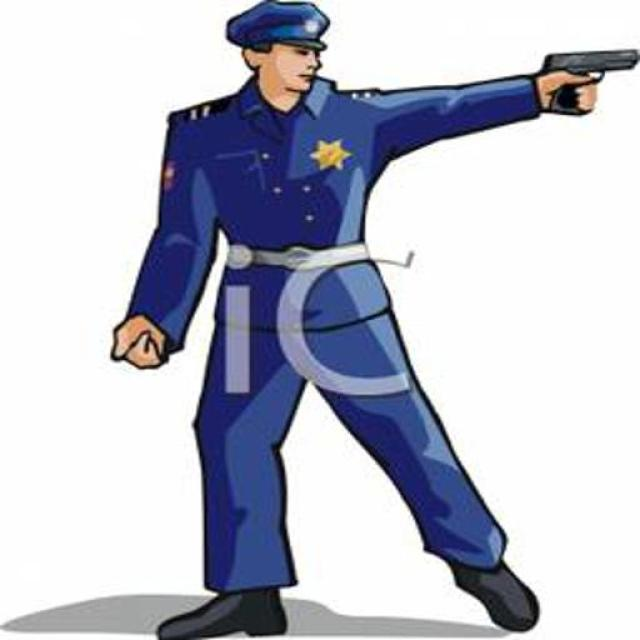pistol: (536, 49, 640, 115)
